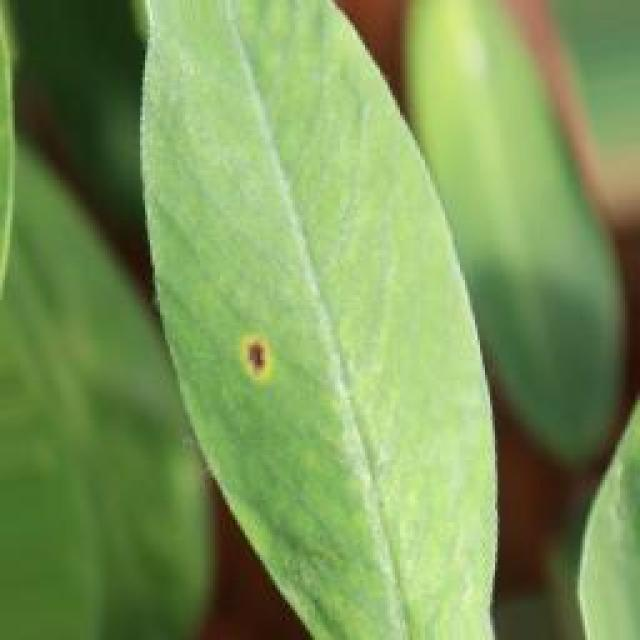Sigatoka: (226, 328, 282, 402)
